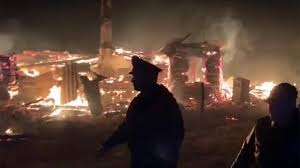fire: (20, 25, 239, 124)
